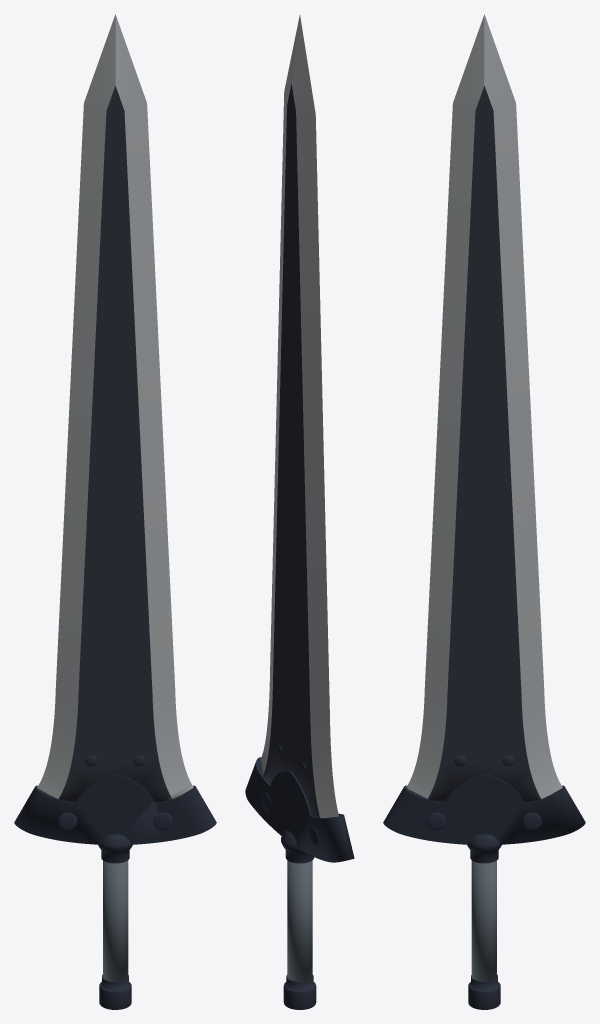
Rendered from Black Great Sword (ALO Level 1).fbx.
3 renders of one model, left to right at view 1: azimuth 90°, elevation 25°; view 2: azimuth 210°, elevation 25°; view 3: azimuth 270°, elevation 25°, orthographic.
Parts seen in each view (by area): view 1: Kirito's_Sword(3); view 2: Kirito's_Sword(3); view 3: Kirito's_Sword(3).
Part boxes in pixels (left/top/right/bottom): Kirito's_Sword(3): left=14, top=14, right=216, bottom=1009; Kirito's_Sword(3): left=245, top=15, right=354, bottom=1009; Kirito's_Sword(3): left=383, top=14, right=585, bottom=1009.
Bounding box in the file's own units: 117 × 3363 × 623.
